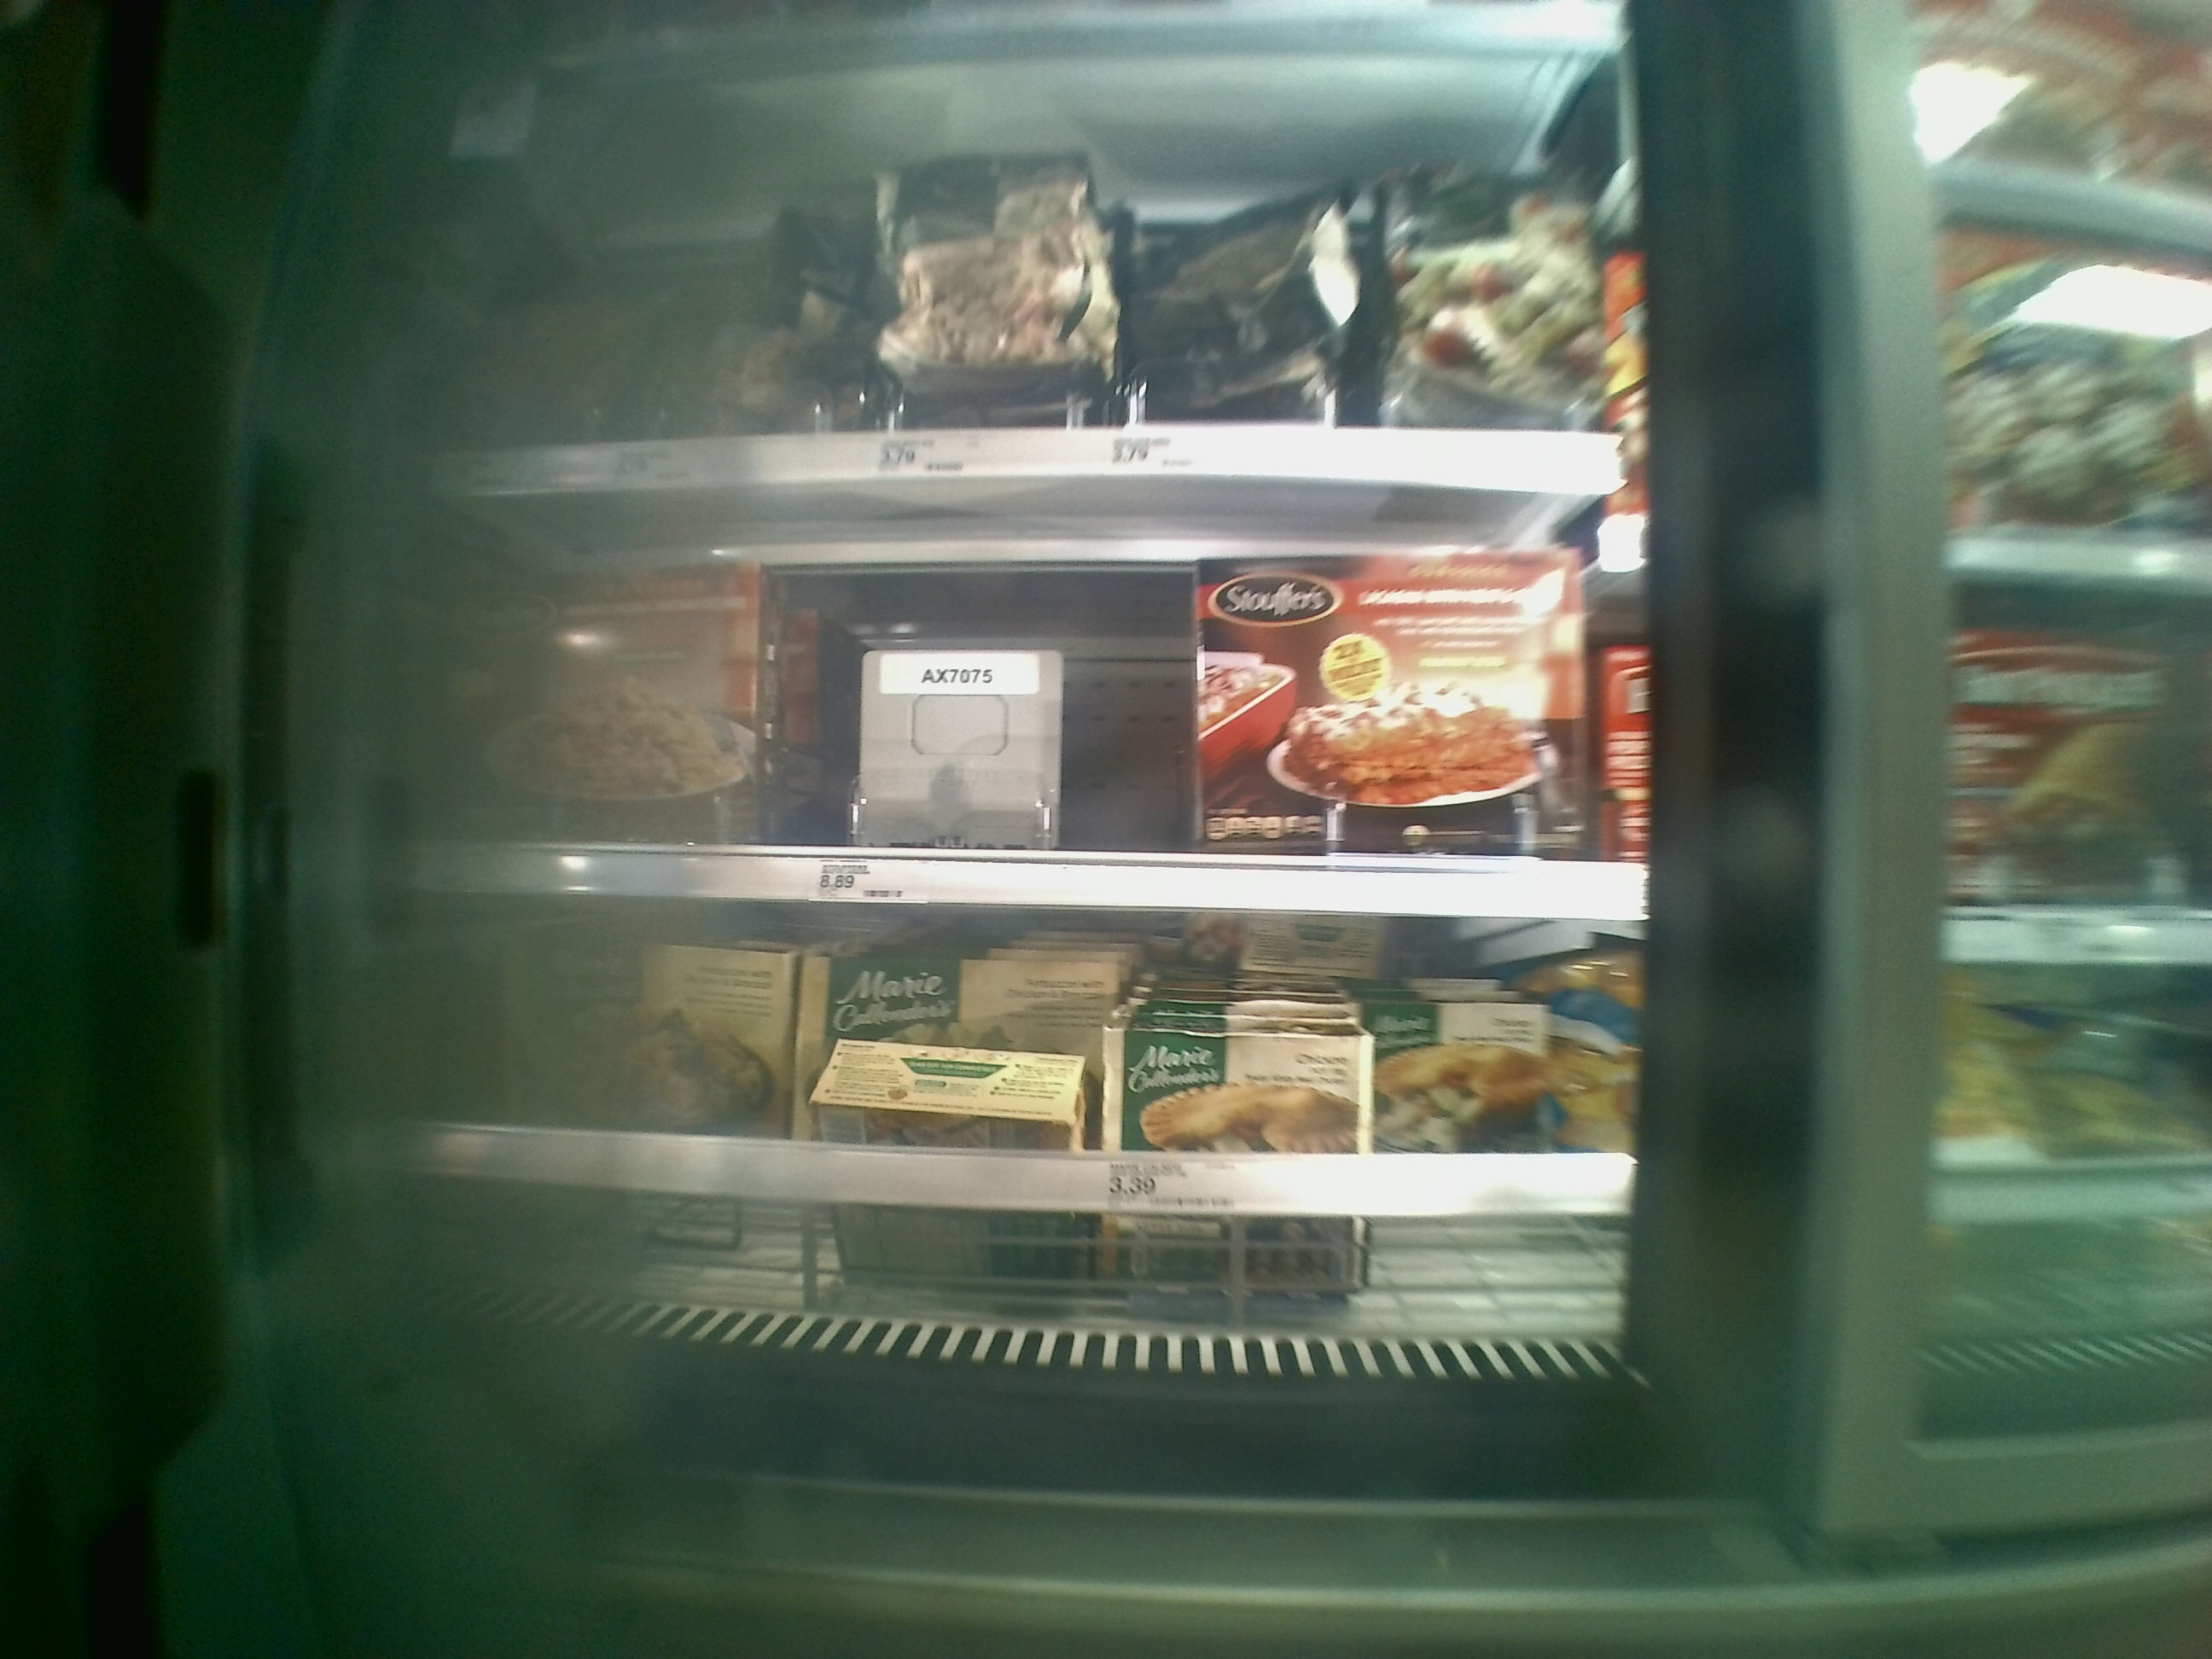shelf: (456, 913, 1632, 1368), (432, 59, 1625, 502), (425, 504, 1639, 934)
